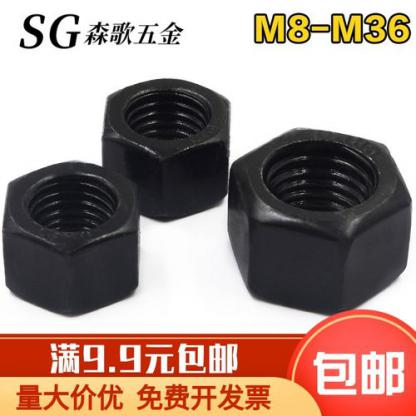FOD: (226, 126, 415, 316), (2, 160, 142, 318), (97, 74, 232, 224)
